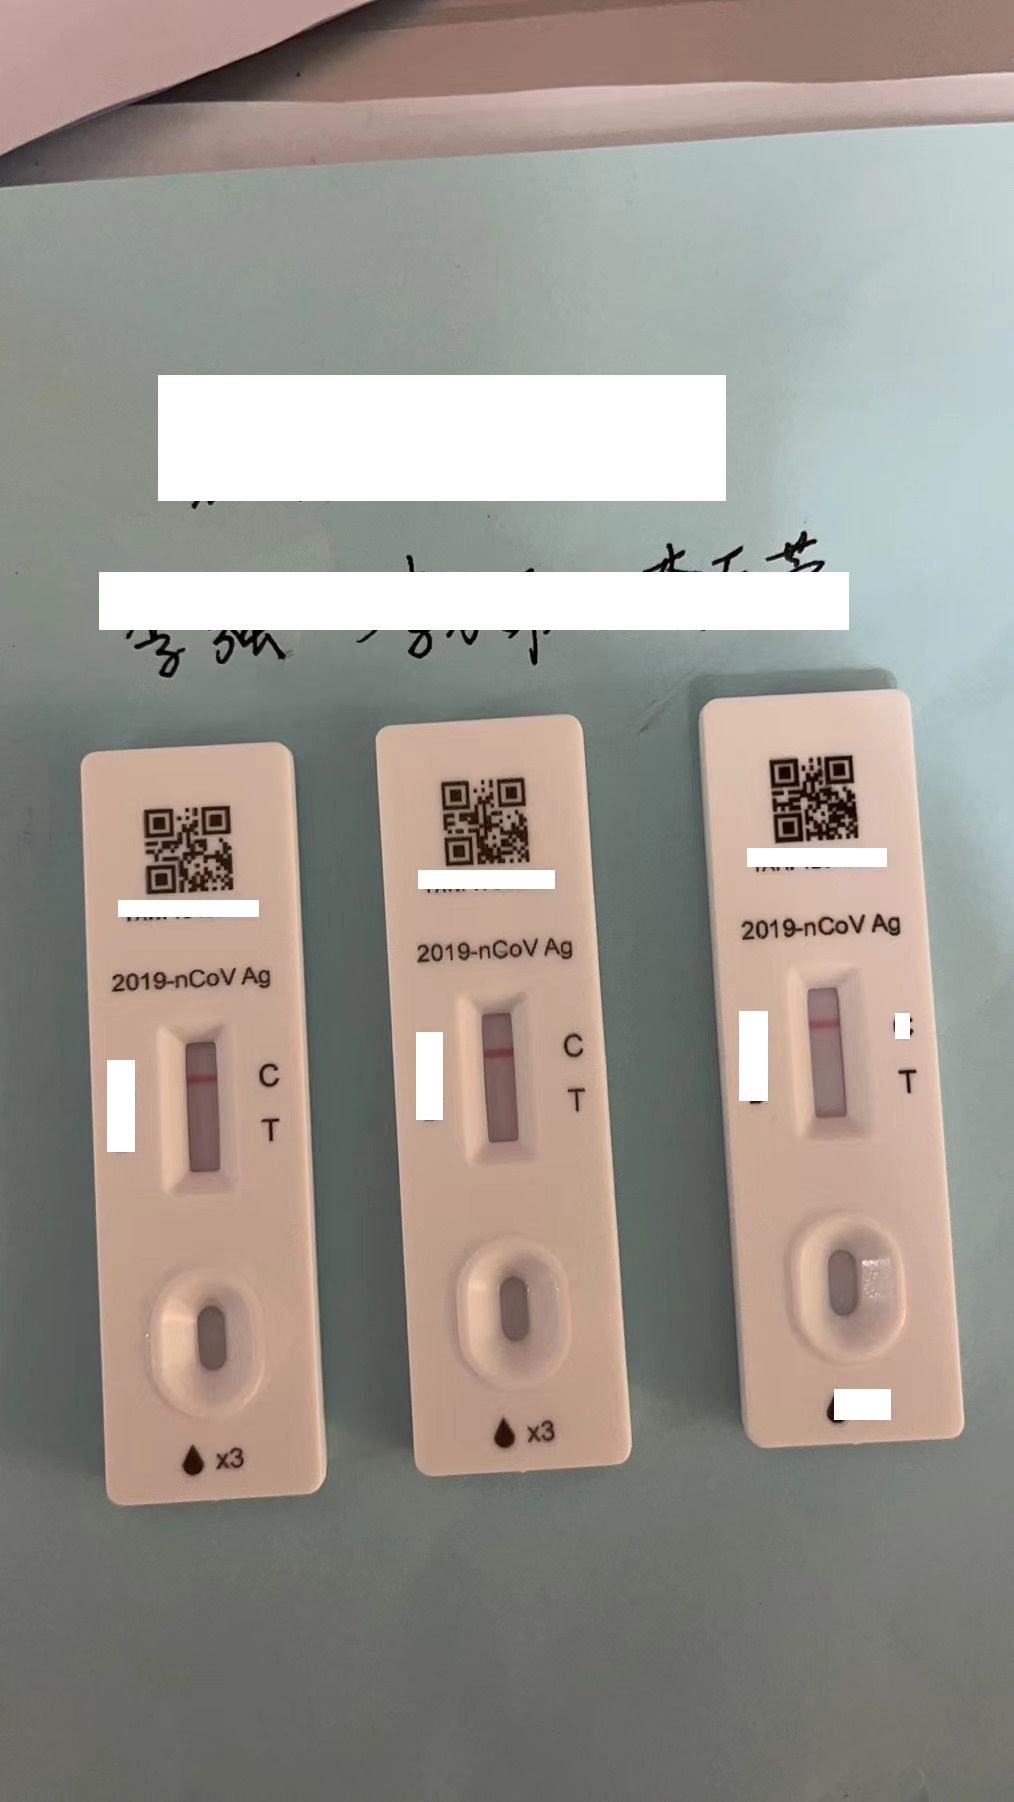negative: (162, 1019, 233, 1192), (792, 962, 865, 1127), (464, 988, 534, 1153)
